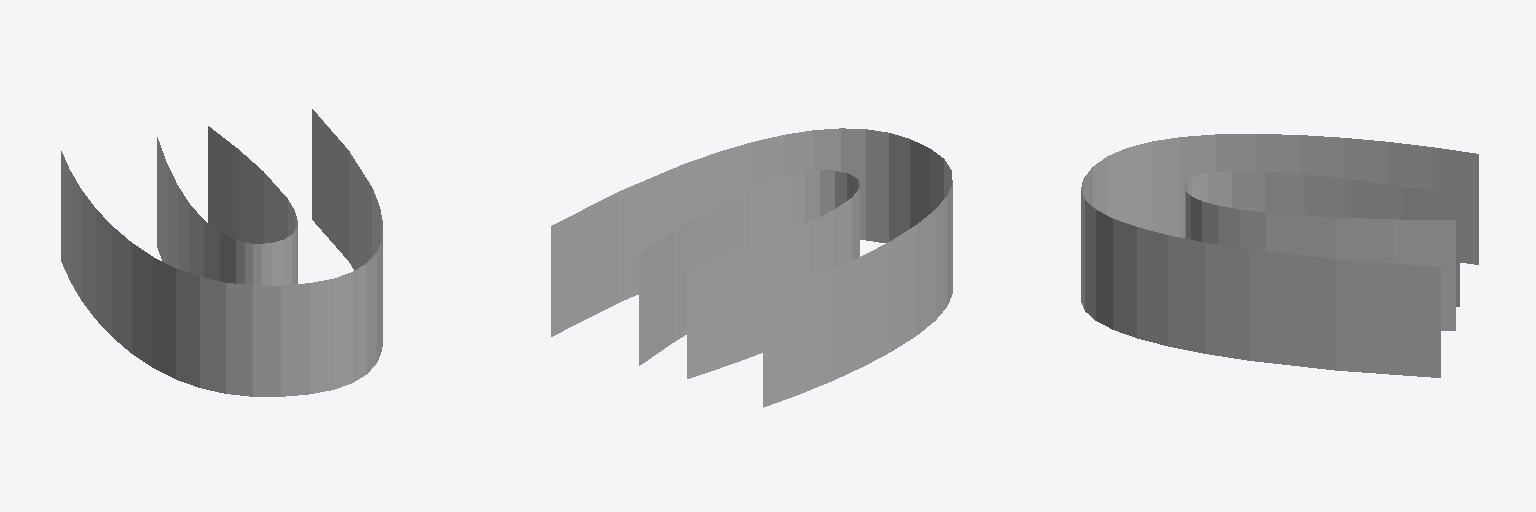
File: u1_chrome.obj
The picture shows the model from 3 angles: view 1: azimuth 30°, elevation 25°; view 2: azimuth 150°, elevation 25°; view 3: azimuth 270°, elevation 25°; orthographic projection.
Size of the model in its own units: 0.6412 by 0.25 by 0.8106.